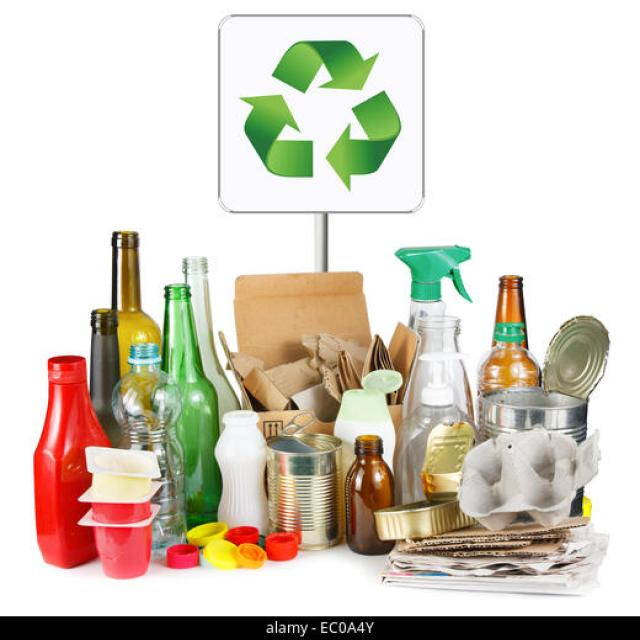cardboard: (238, 275, 401, 391), (459, 430, 601, 528)
glass: (95, 224, 229, 338), (480, 271, 533, 378), (344, 436, 386, 543)
metal: (507, 308, 640, 391), (256, 433, 335, 539), (374, 495, 486, 544)
plastic: (29, 370, 101, 551), (112, 336, 196, 471), (95, 464, 171, 574)
